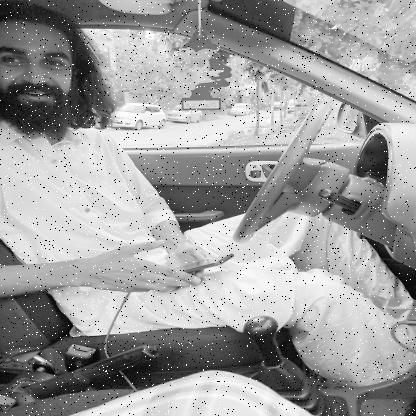no_seatbelt: (0, 13, 137, 258)
